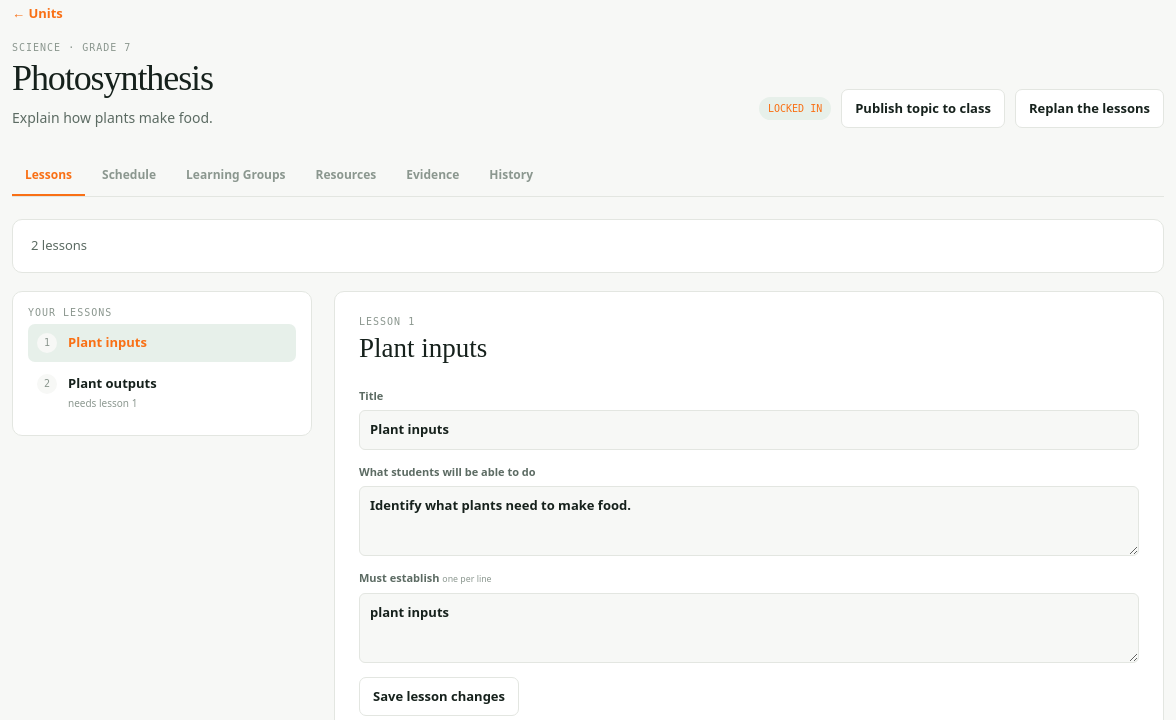
Test: /units/[id] › selecting a lesson does not fetch shape and refreshes durable preparation status
Check: the field showing "Plant inputs" is shown, box [359,410,1139,450]
Click the button "2 Plant outputs needs lesson 1": (112, 383) [28,365,296,420]
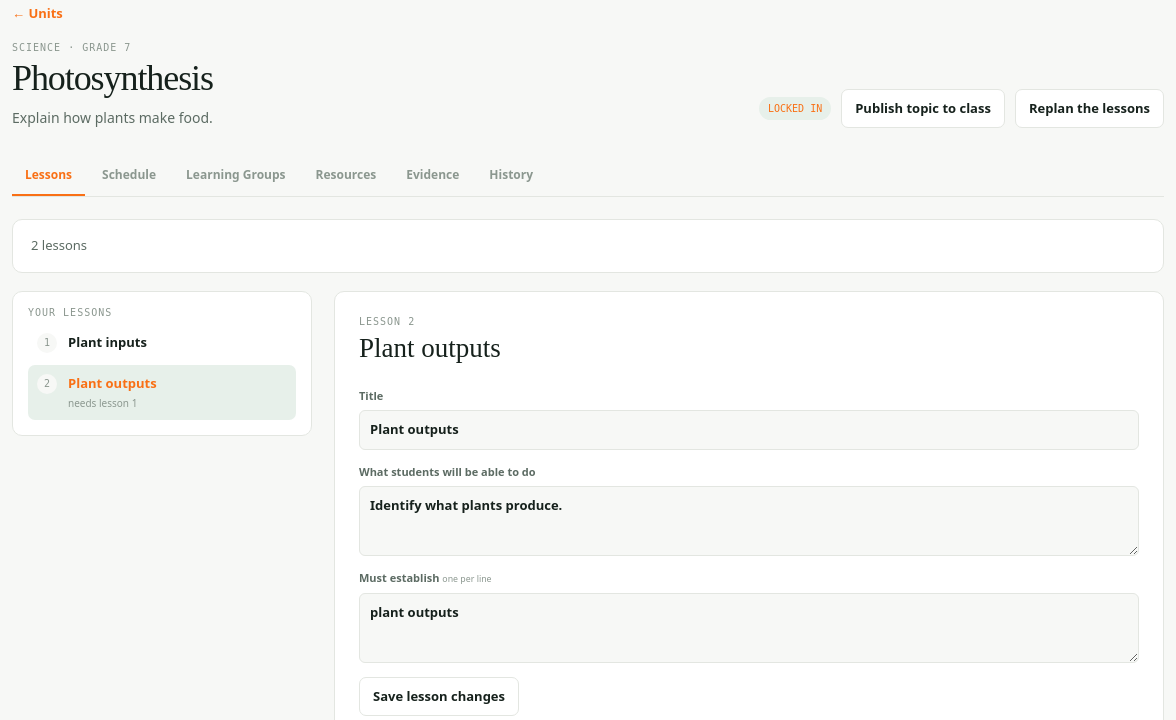
Check: the field showing "Plant outputs" is shown, box [359,410,1139,450]
